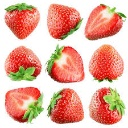strawberry: (47, 44, 87, 85), (3, 87, 46, 123), (84, 5, 125, 42), (3, 45, 43, 82), (89, 44, 125, 84), (88, 88, 125, 126), (4, 3, 42, 40), (47, 88, 86, 124), (46, 3, 82, 40)
